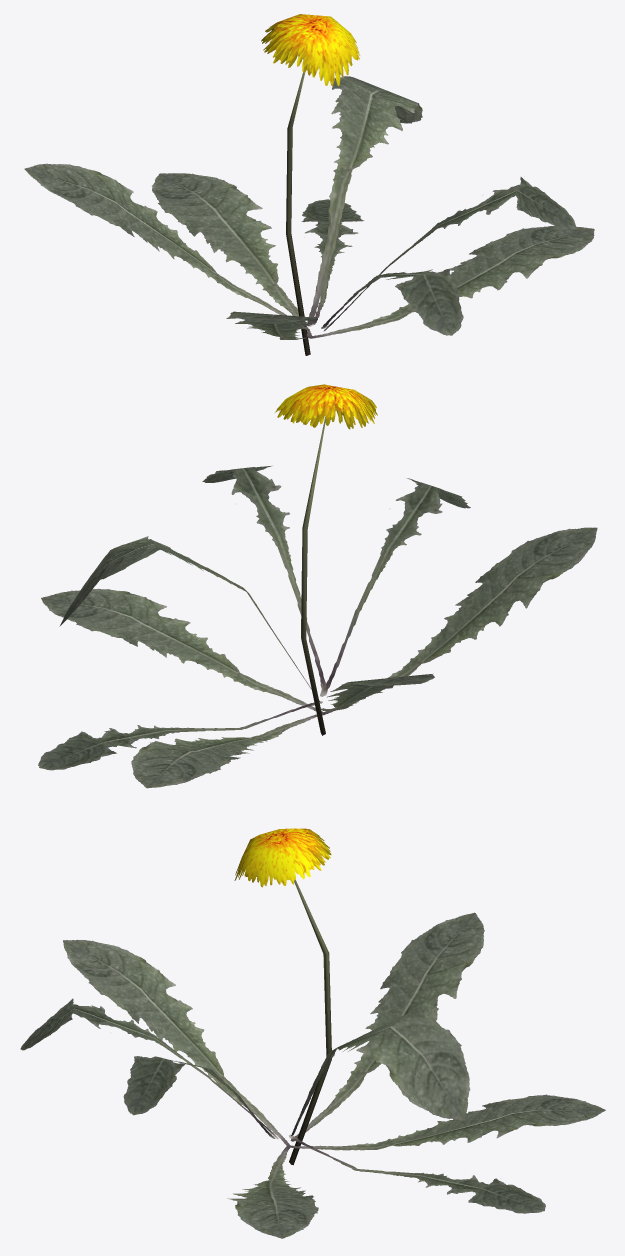
Rendered from Oduvanchik02.FBX.
3 views of the same model, one above another, from view 1: azimuth 30°, elevation 25°; view 2: azimuth 150°, elevation 25°; view 3: azimuth 270°, elevation 25° (orthographic). The views are drawn at different scales.
Parts seen in each view (by area): view 1: Oduvanchik02; view 2: Oduvanchik02; view 3: Oduvanchik02.
Boxes of the visible parts, <box> form: Oduvanchik02: <box>24,14,594,355</box>; Oduvanchik02: <box>38,384,597,788</box>; Oduvanchik02: <box>20,828,605,1238</box>.
Size of the model in its own units: 10.44 by 6.76 by 11.04.
